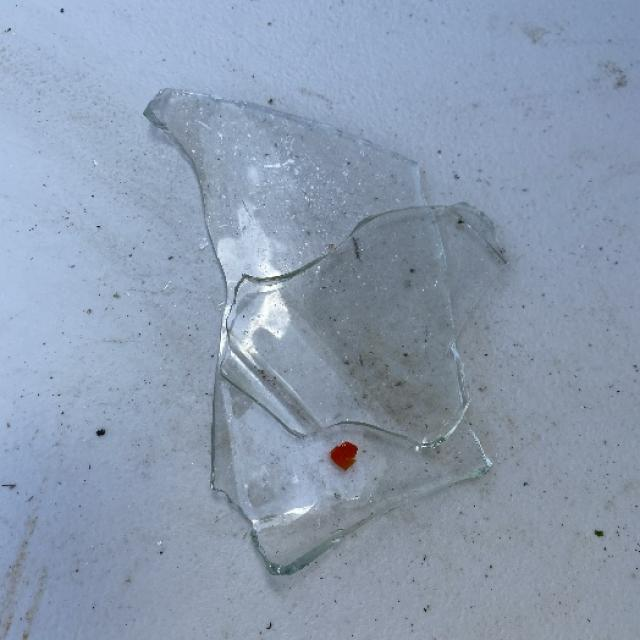kaca: (137, 86, 524, 577)
